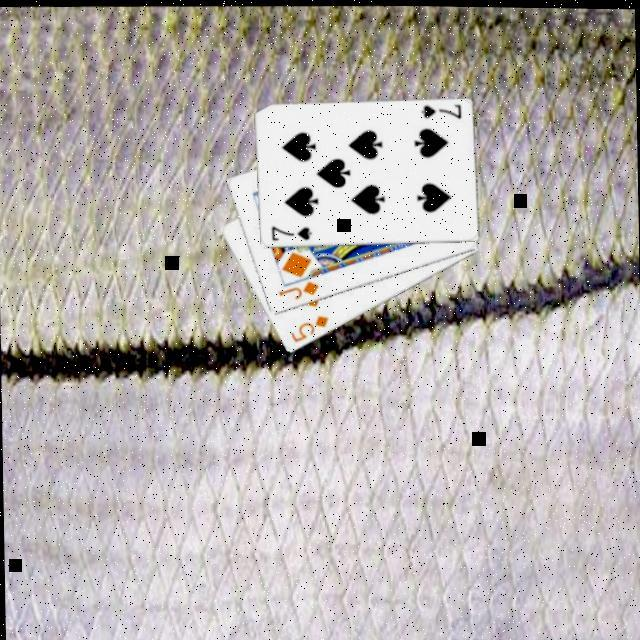5D: (285, 311, 330, 346)
7S: (266, 221, 312, 245), (417, 100, 462, 122)
JD: (274, 276, 320, 302)
